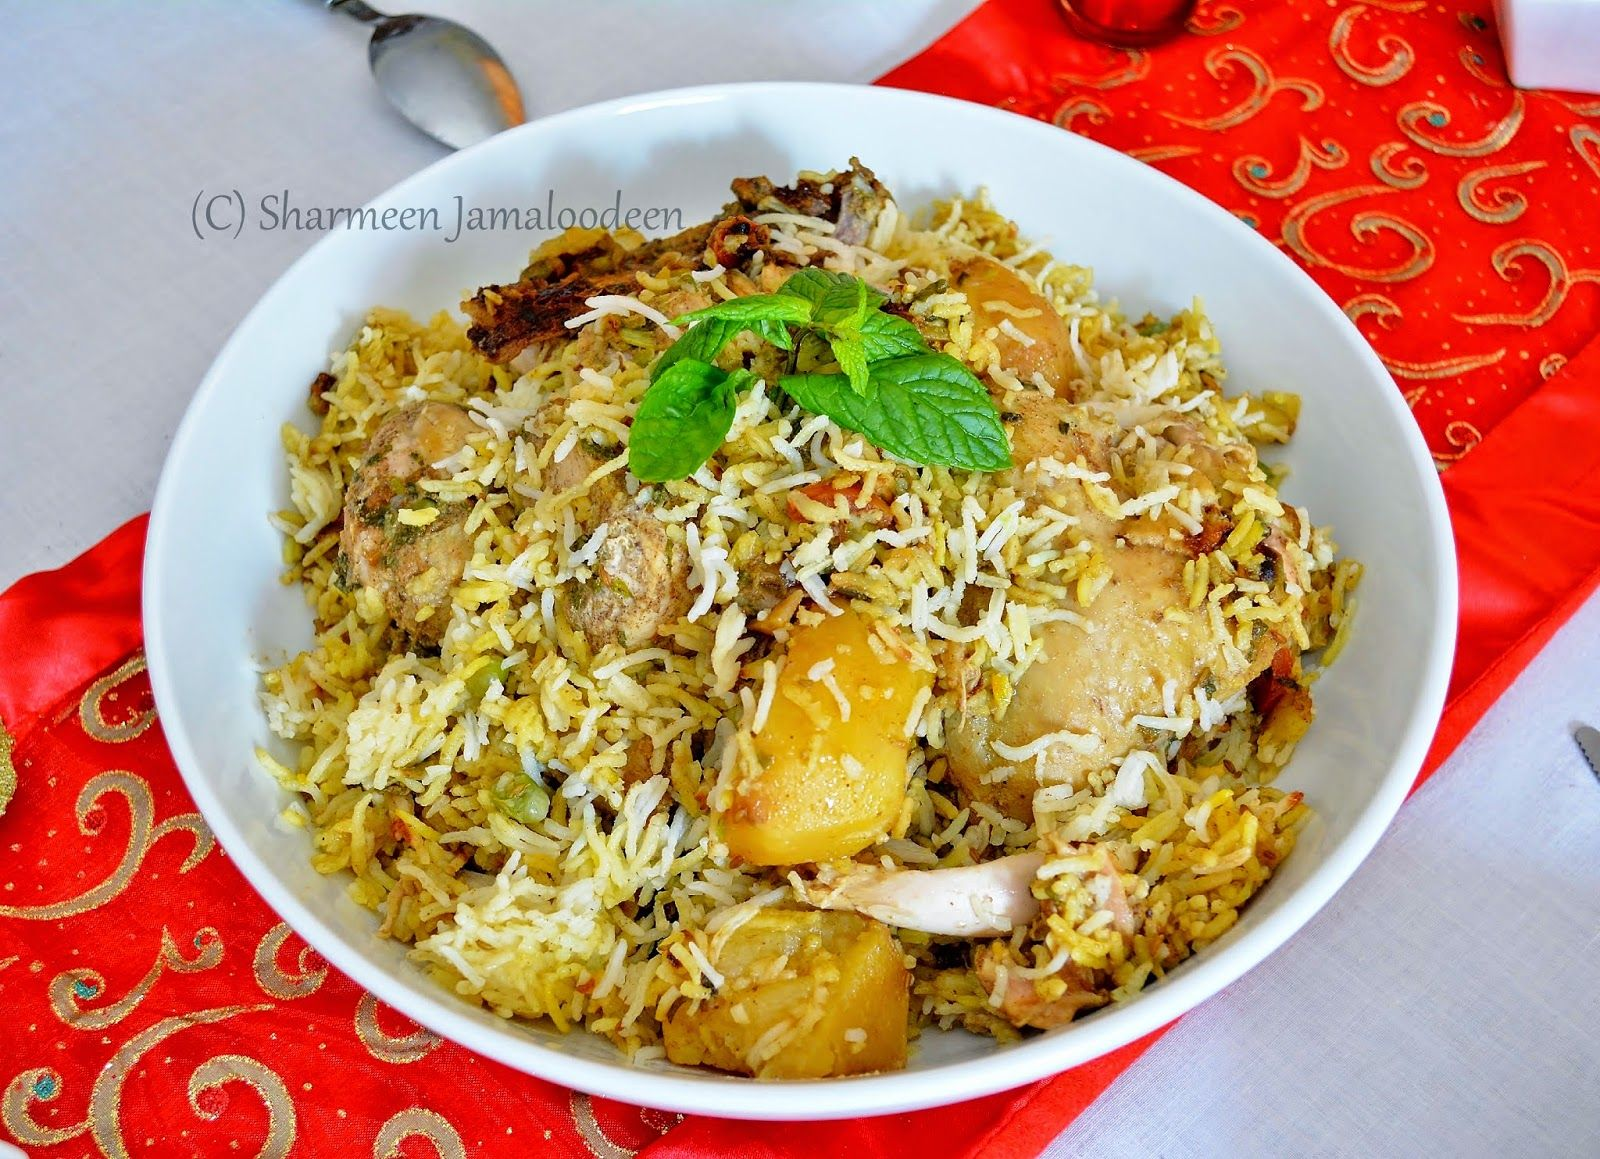Biryani: (273, 176, 1332, 995)
